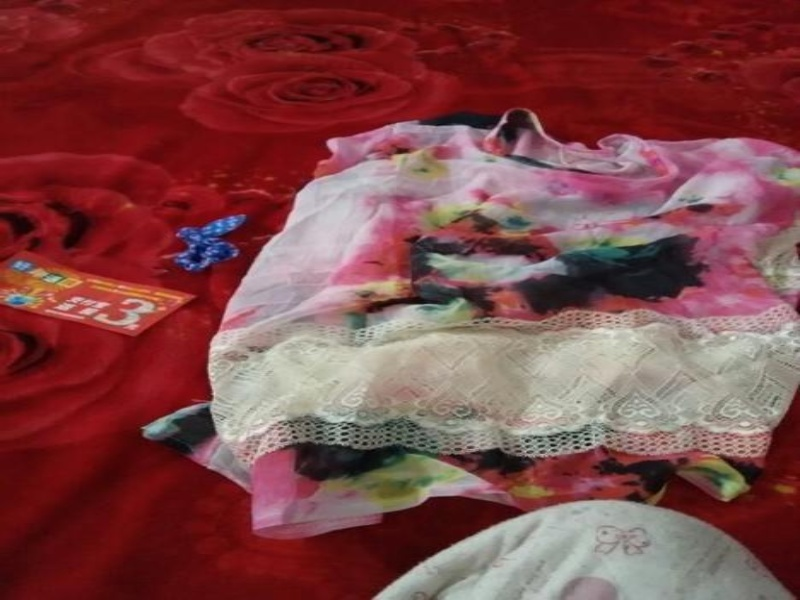long_sleeved_shirt: (87, 98, 797, 554)
